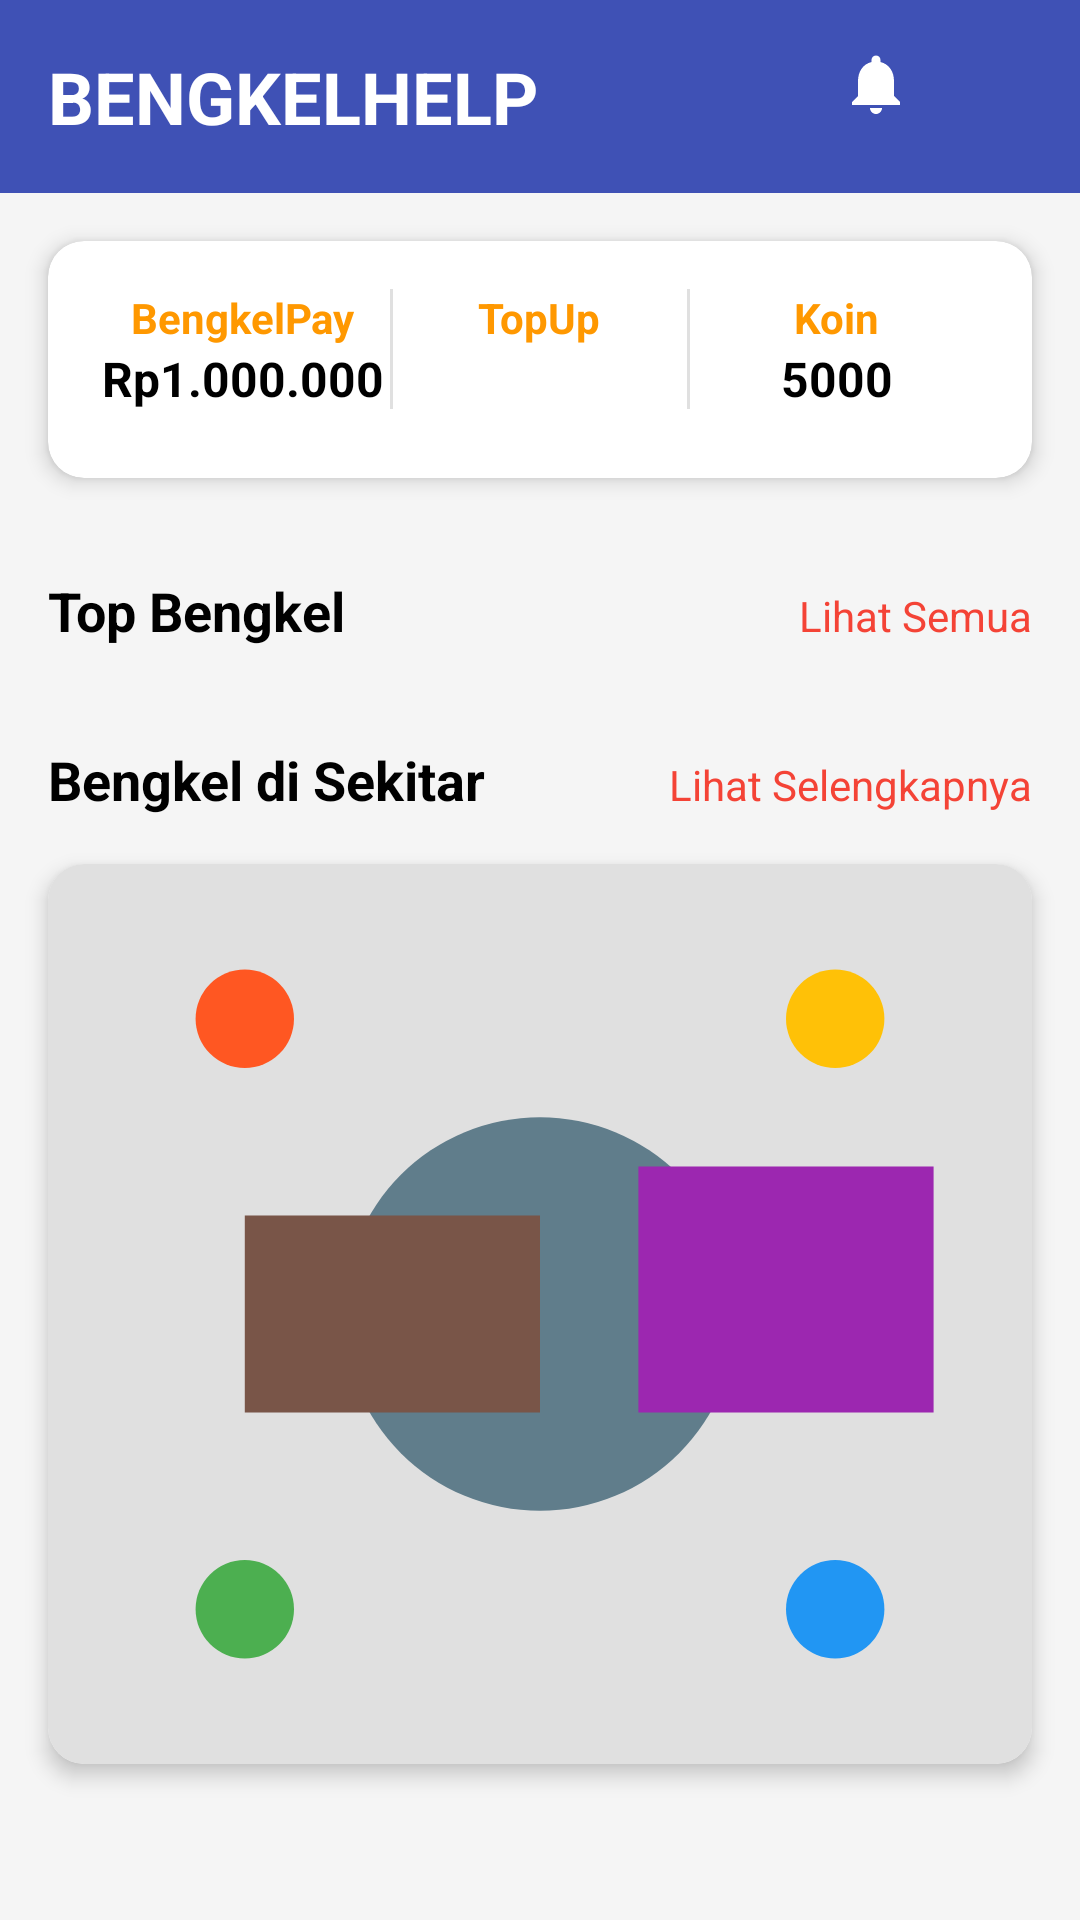

Icons on this 1080 × 1920 Android screen, each with the point to tap as point (x, y):
notifications: point (876, 84)
